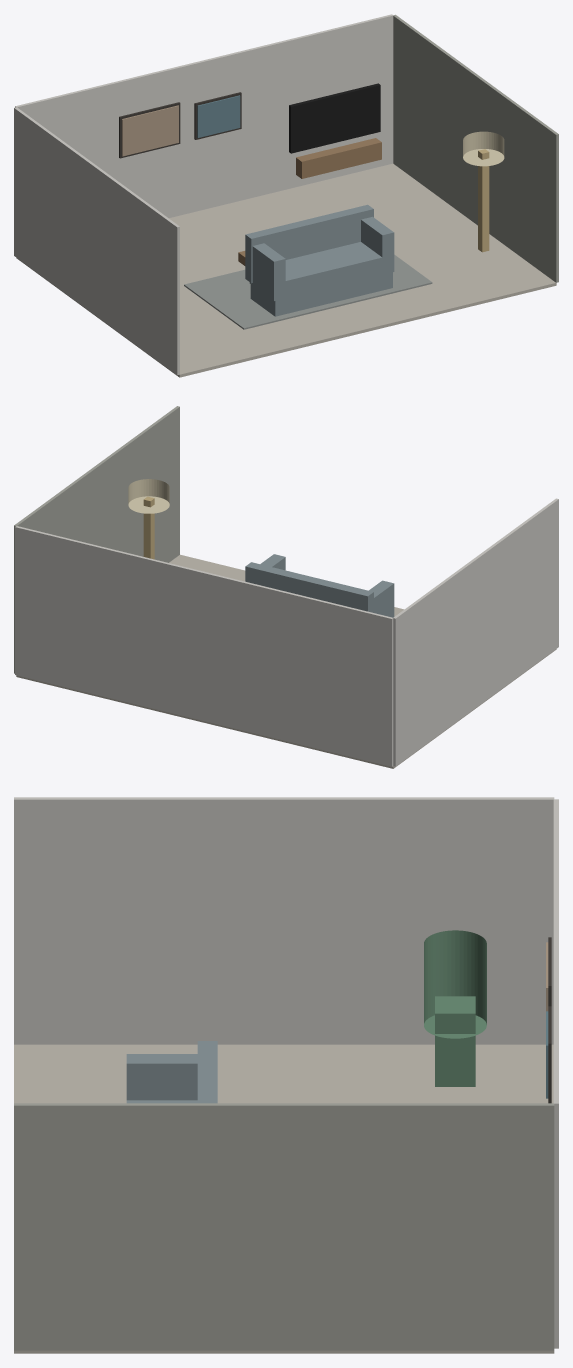
The model's file is portfolio_living_room.glb.
3 renders of one model, top to bottom at view 1: azimuth 30°, elevation 25°; view 2: azimuth 150°, elevation 25°; view 3: azimuth 270°, elevation 25°, orthographic. The views are drawn at different scales.
Visible parts, largest first — view 1: PortfolioLivingRoom; view 2: PortfolioLivingRoom; view 3: PortfolioLivingRoom.
Part boxes in pixels (x1,y1,x2,y2): PortfolioLivingRoom: (14,14,558,377); PortfolioLivingRoom: (14,406,558,768); PortfolioLivingRoom: (14,797,558,1353).
Size of the model in its own units: 8.1 by 3.06 by 6.05.
